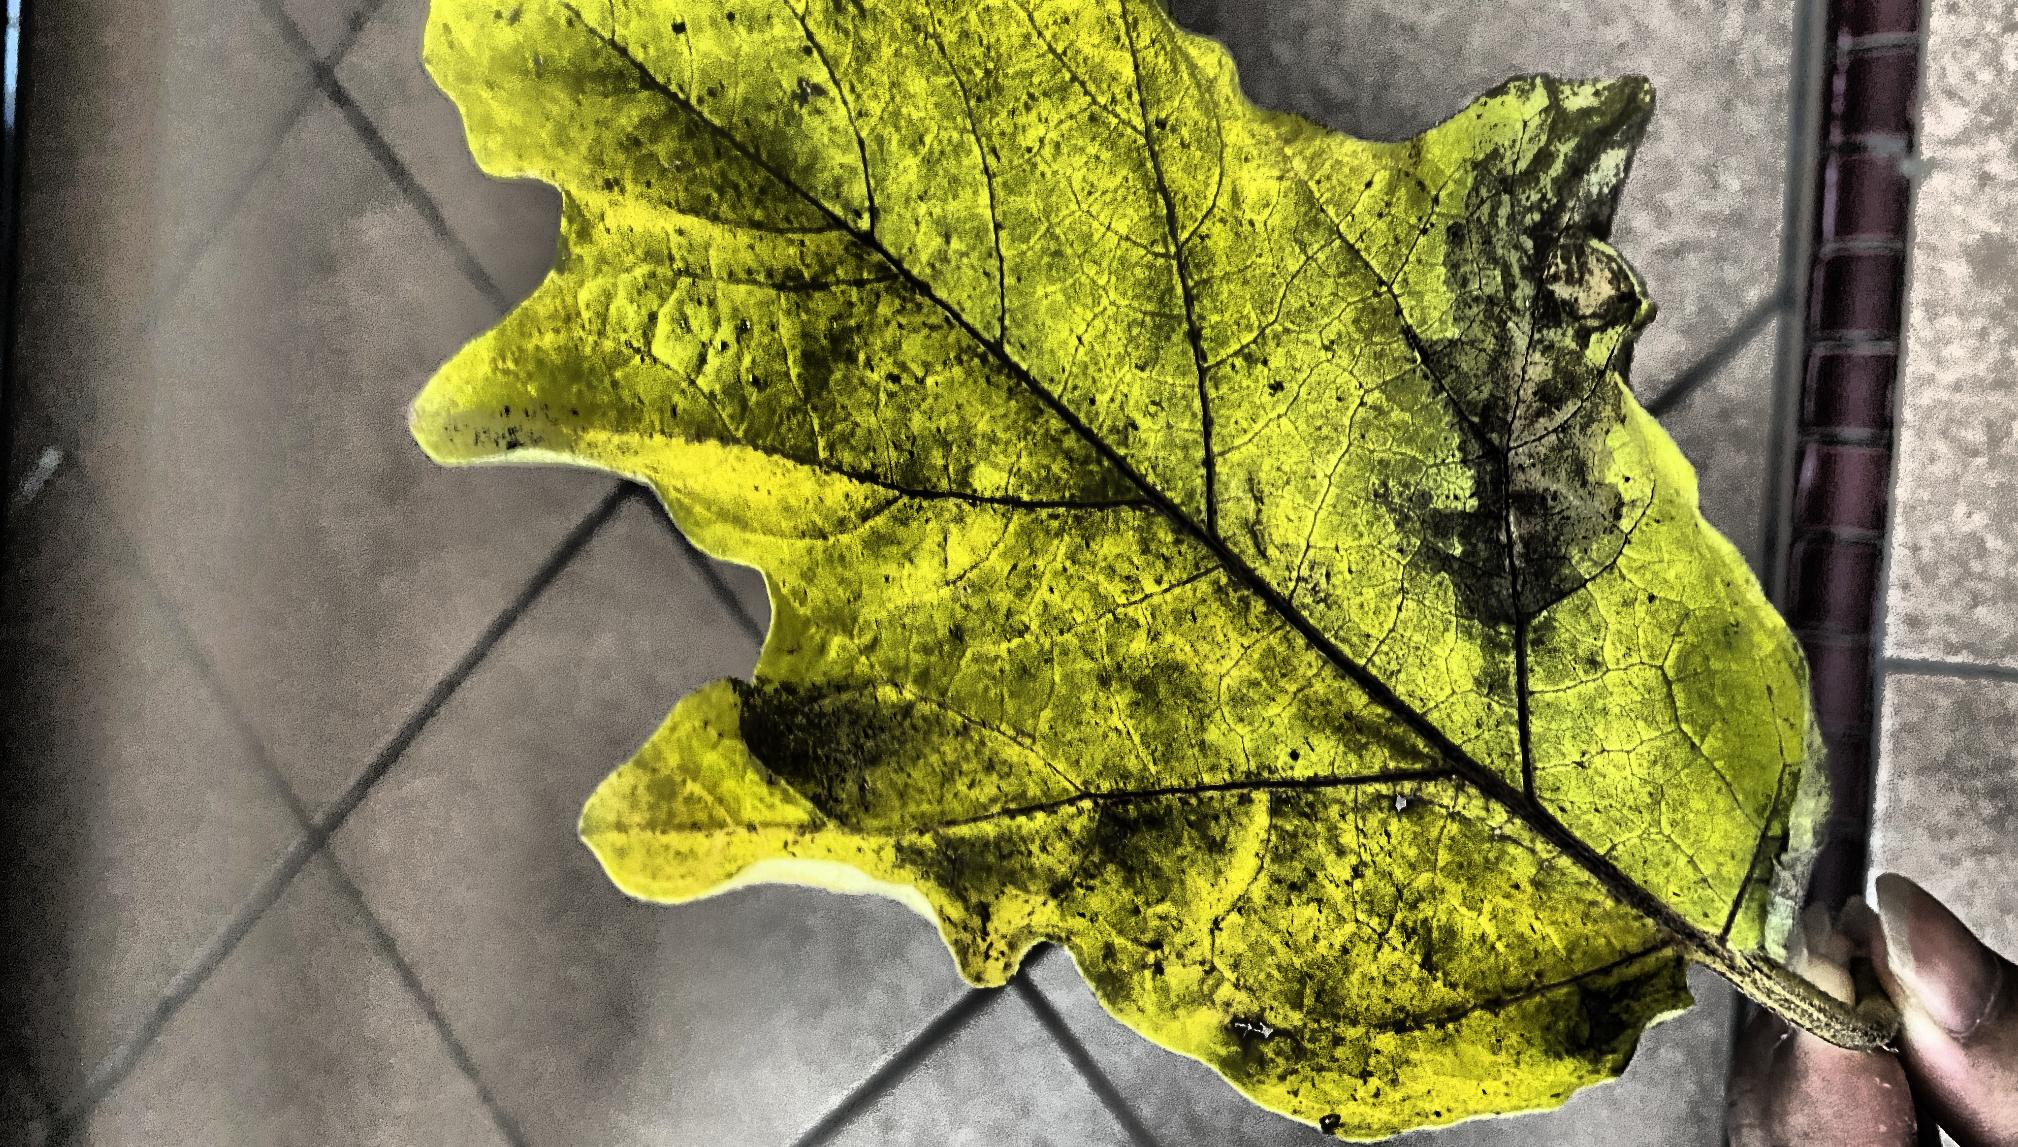Critical Stress: (0, 89, 1507, 1147)
